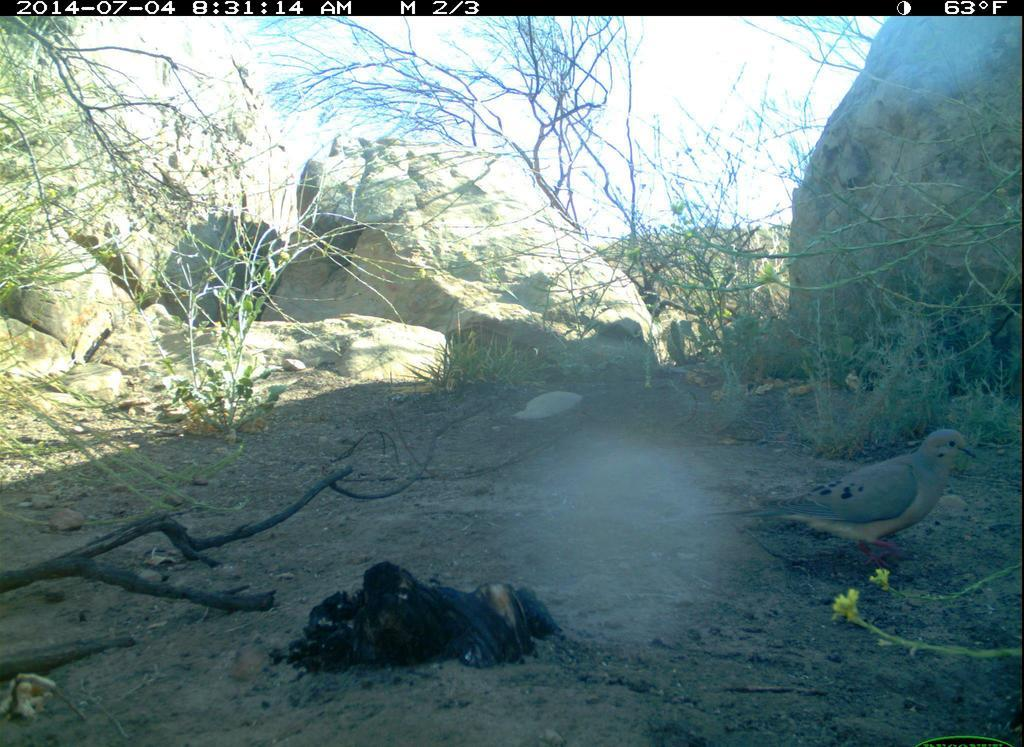bird: (687, 422, 1004, 574)
